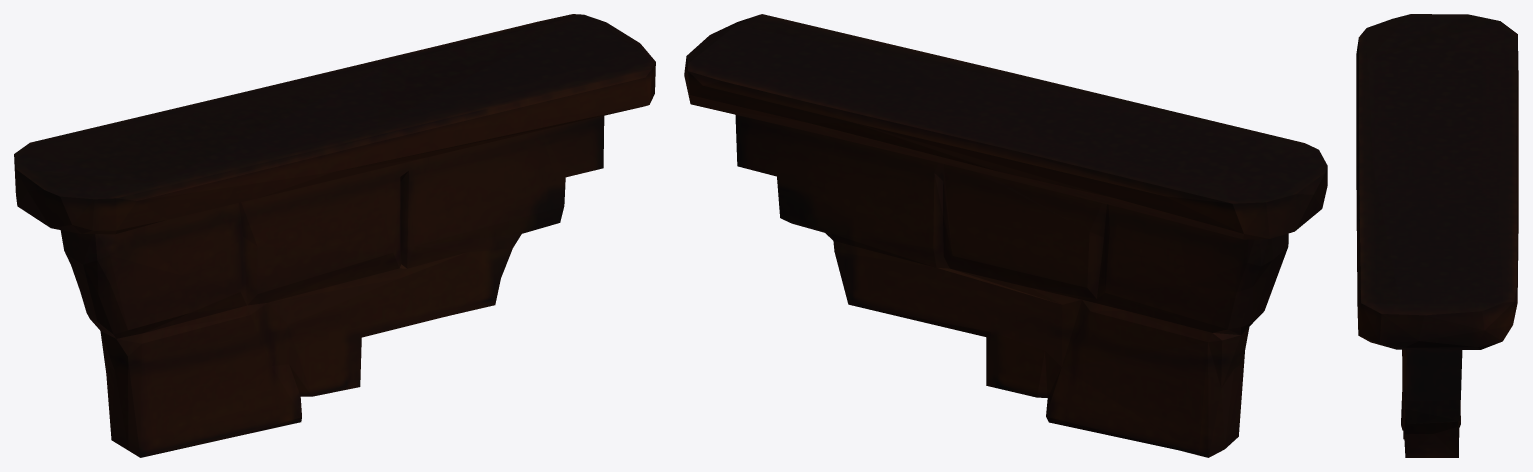
The picture shows the model from 3 angles, left to right: view 1: azimuth 30°, elevation 25°; view 2: azimuth 150°, elevation 25°; view 3: azimuth 270°, elevation 25°; orthographic projection.
Parts seen in each view (by area): view 1: geometry_0.043_Baked; view 2: geometry_0.043_Baked; view 3: geometry_0.043_Baked.
Boxes of the visible parts, x1,y1,x2,y2 form: geometry_0.043_Baked: (14,14,655,457); geometry_0.043_Baked: (684,14,1327,457); geometry_0.043_Baked: (1356,14,1518,457).
Size of the model in its own units: 28.82 by 13.24 by 6.65.
